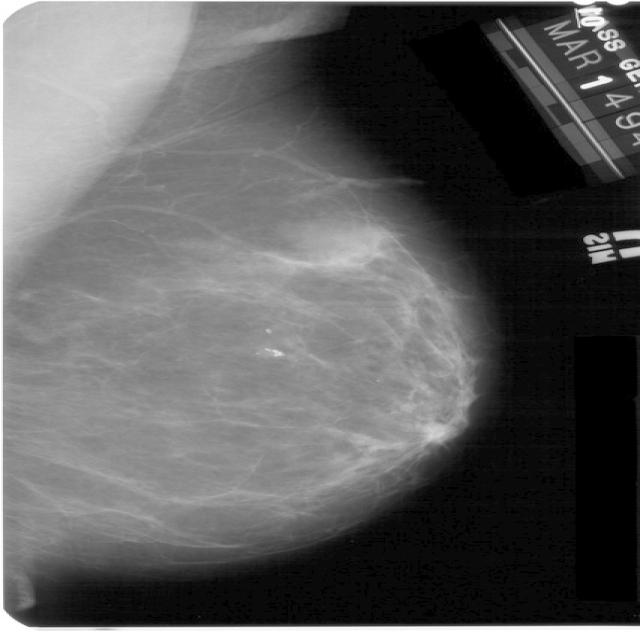tumour: (303, 220, 388, 271)
